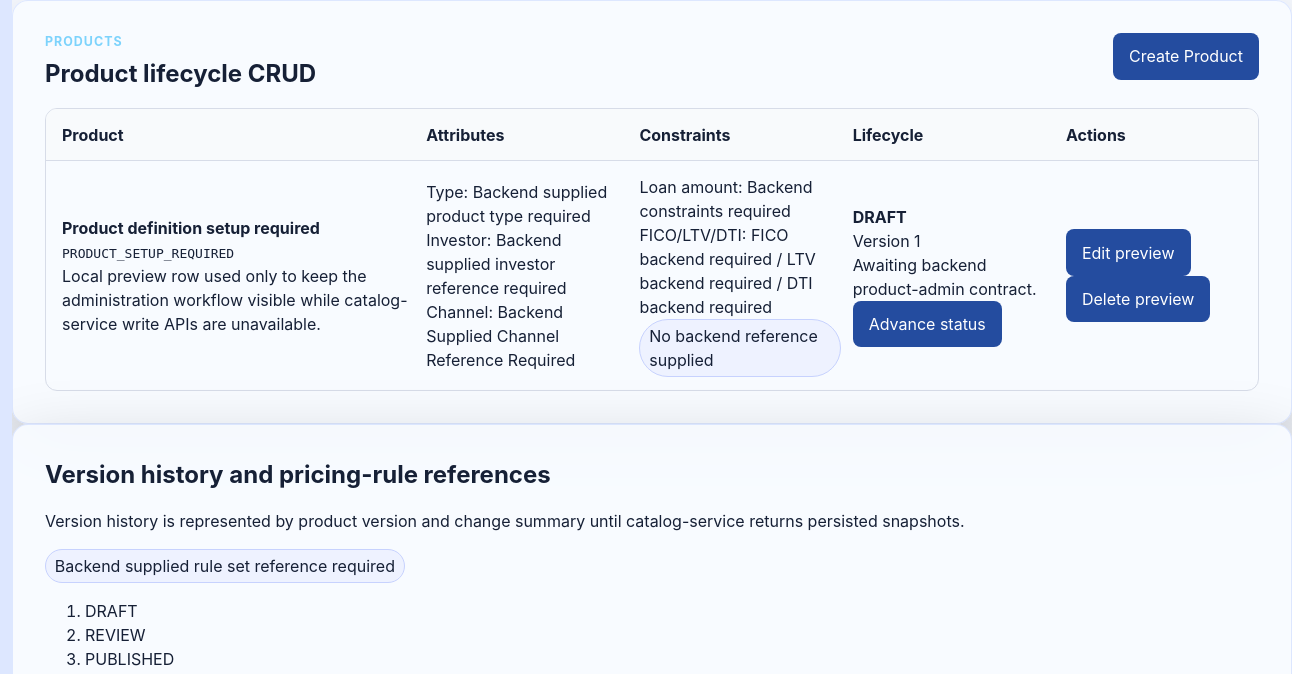
Test: ProductAdminScreen › advances product lifecycle preview through terminal deprecated state
(page scrolled)
Click the button "Advance status": {"x": 927, "y": 324} [853,301,1002,347]
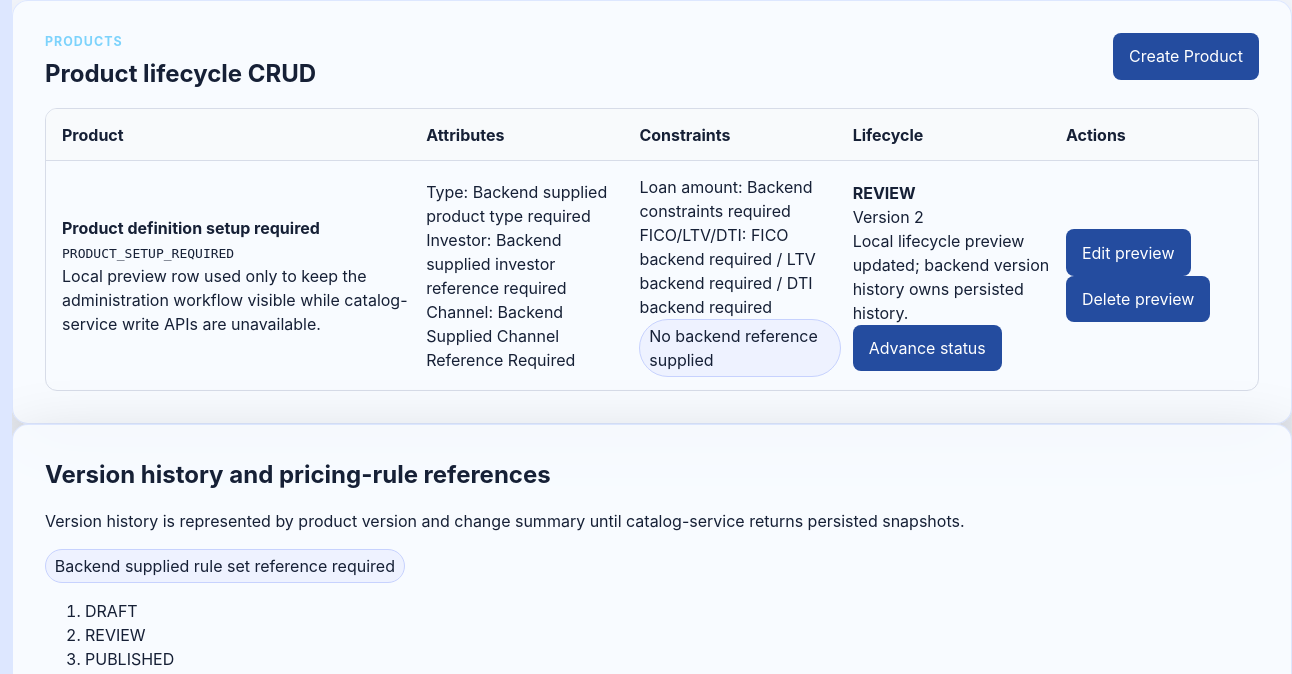
Check: the text "Local lifecycle preview updated" is shown, box [853,231,1049,323]
Click the button "Advance status": {"x": 927, "y": 348} [853,325,1002,371]
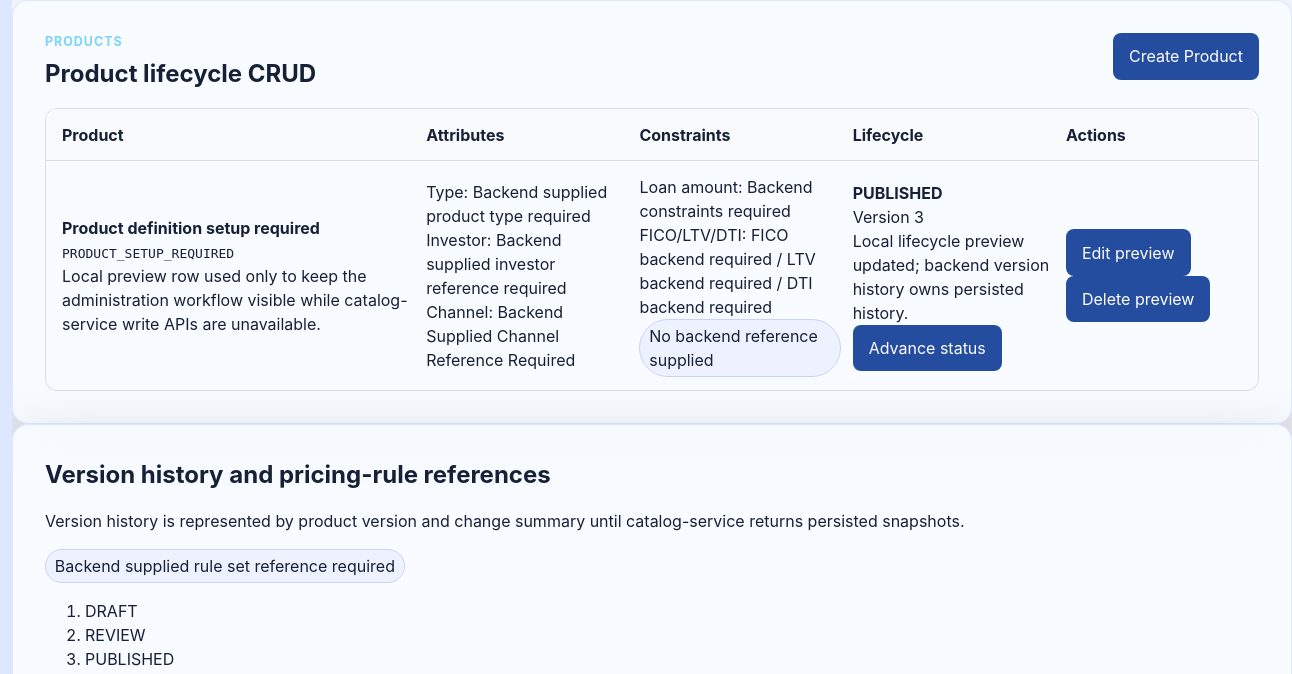
Check: the text "Version 3" is shown, box [853,181,1054,371]
Click the button "Advance status": {"x": 927, "y": 348} [853,325,1002,371]
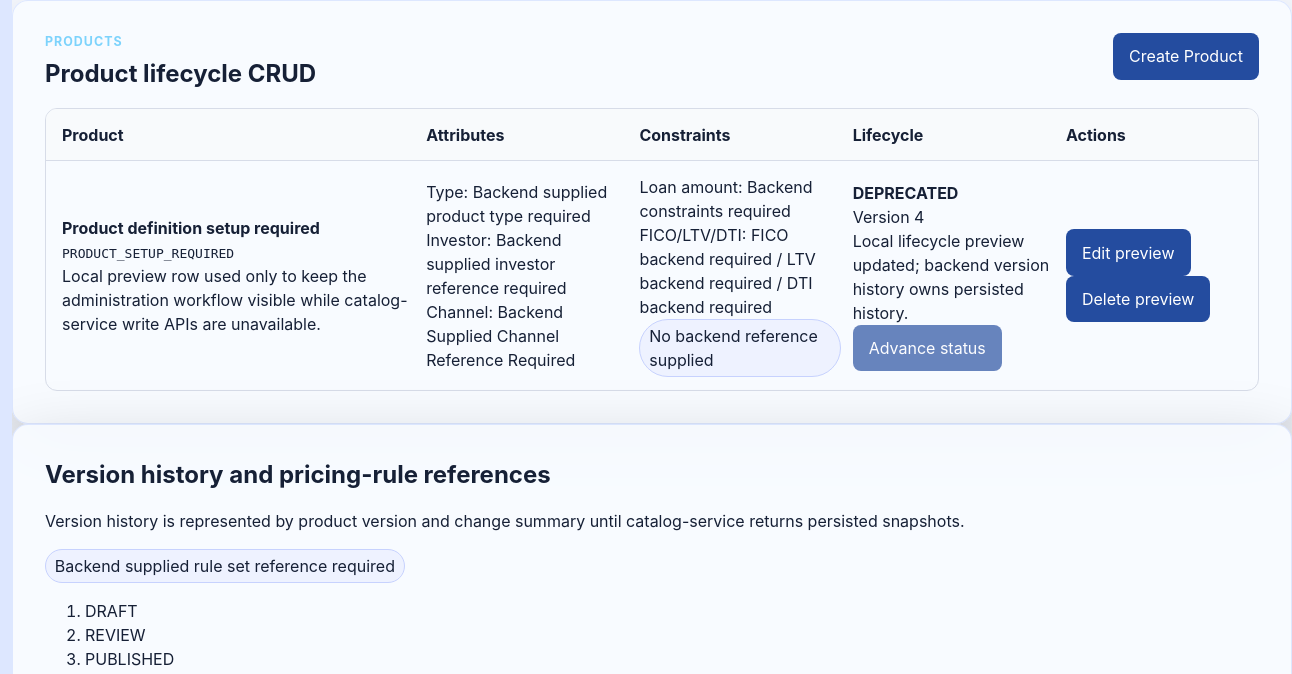
Check: the text "Version 4" is shown, box [853,181,1054,371]
Check: the button "Advance status" is disabled, box [853,325,1002,371]
